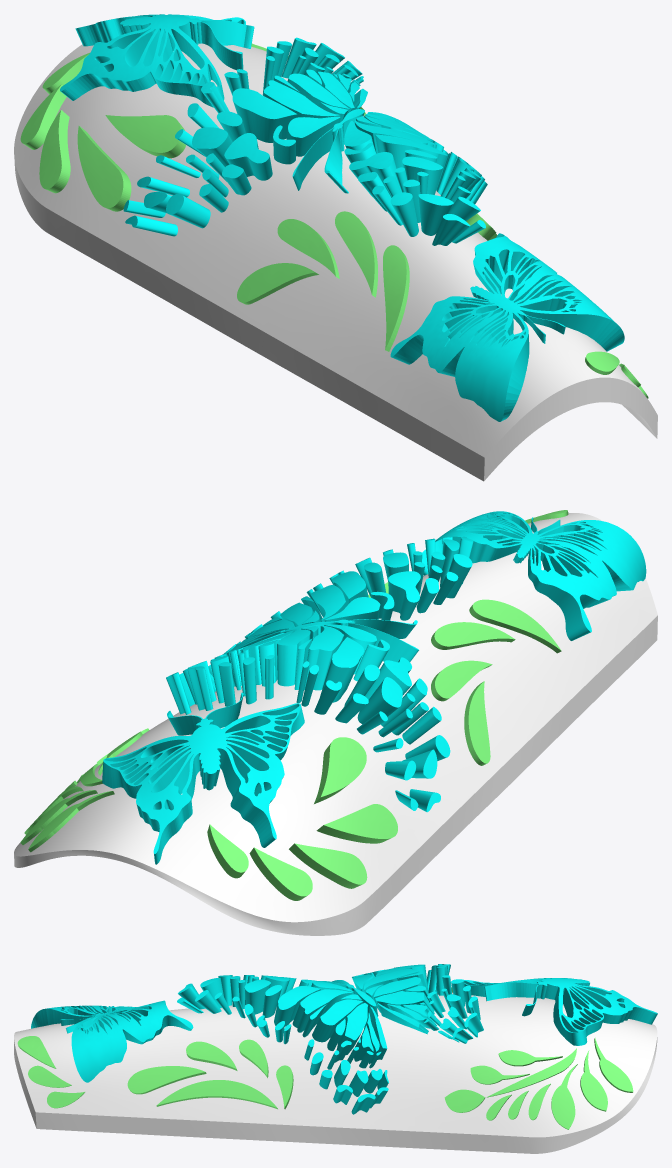
The model's file is butterfly-cove-coffin-full.glb.
The picture shows the model from 3 angles, top to bottom: view 1: azimuth 30°, elevation 25°; view 2: azimuth 150°, elevation 25°; view 3: azimuth 270°, elevation 25°; orthographic projection. The views are drawn at different scales.
Size of the model in its own units: 0.0138 by 0.00747 by 0.035.
